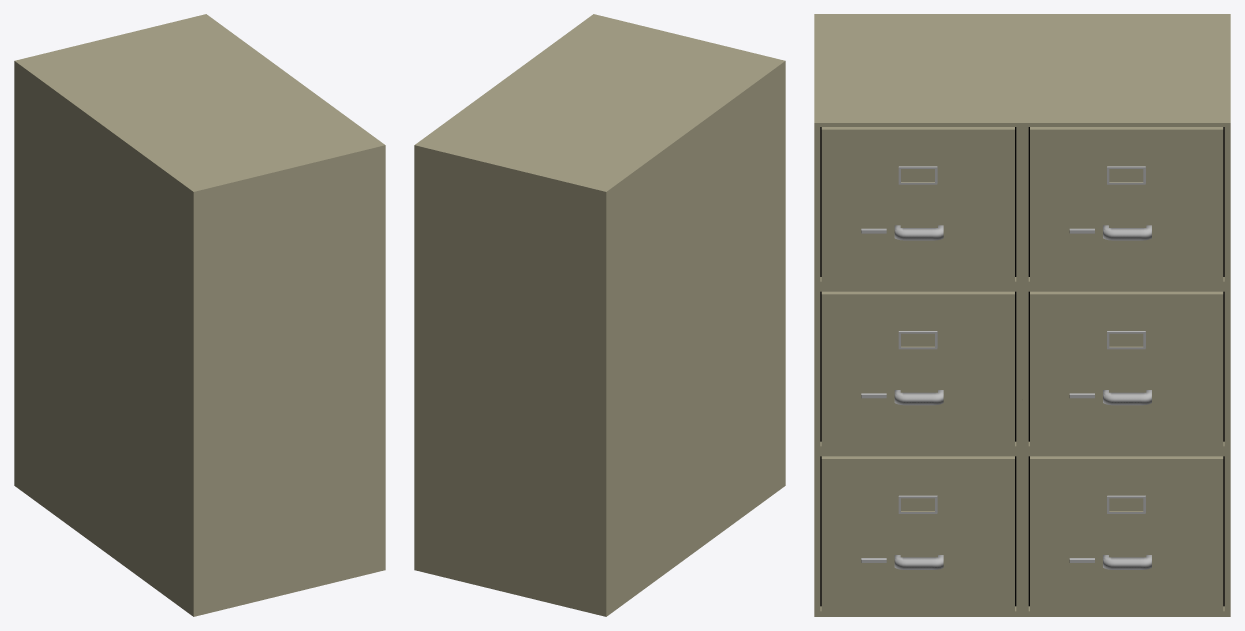
Rendered from Cabinets3x2.fbx.
The picture shows the model from 3 angles, left to right: view 1: azimuth 30°, elevation 25°; view 2: azimuth 150°, elevation 25°; view 3: azimuth 270°, elevation 25°; orthographic projection. The views are drawn at different scales.
Visible parts, largest first — view 1: Cube.002; view 2: Cube.002; view 3: Cube.002.
Part boxes in pixels (x1,y1,x2,y2): Cube.002: [14, 14, 385, 616]; Cube.002: [414, 14, 785, 616]; Cube.002: [814, 14, 1230, 616].
Bounding box in the file's own units: 104 × 207 × 158.
